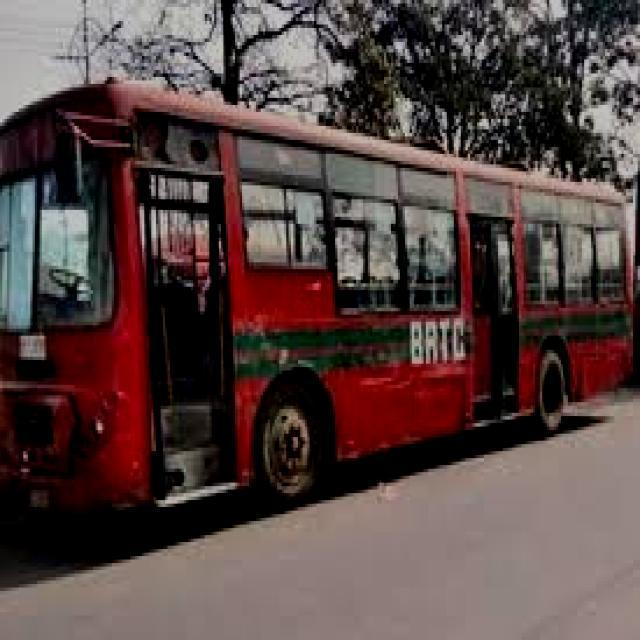Bus: (0, 53, 640, 525)
